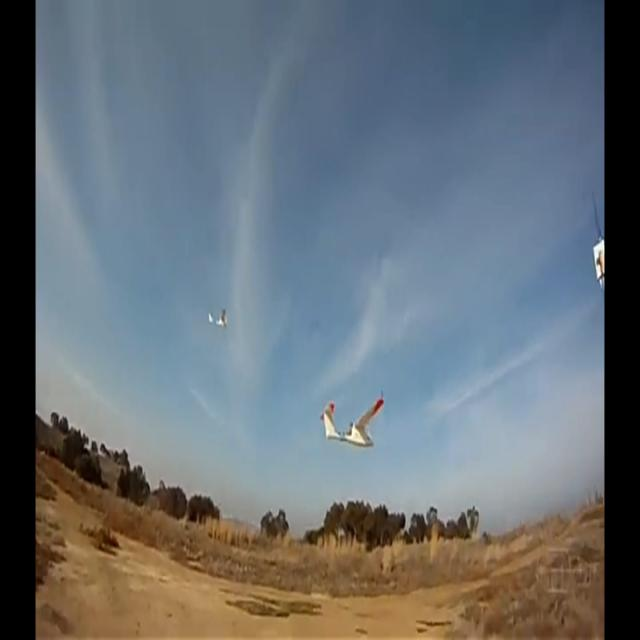iha: (208, 308, 228, 330), (351, 389, 352, 449)
